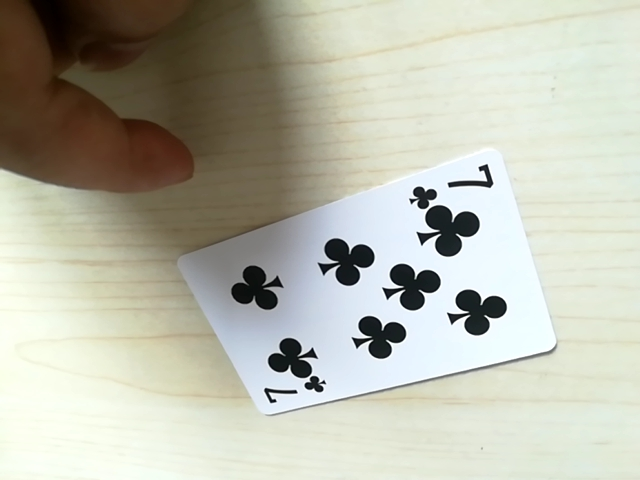mh 7: (407, 163, 499, 200), (254, 377, 328, 413)
